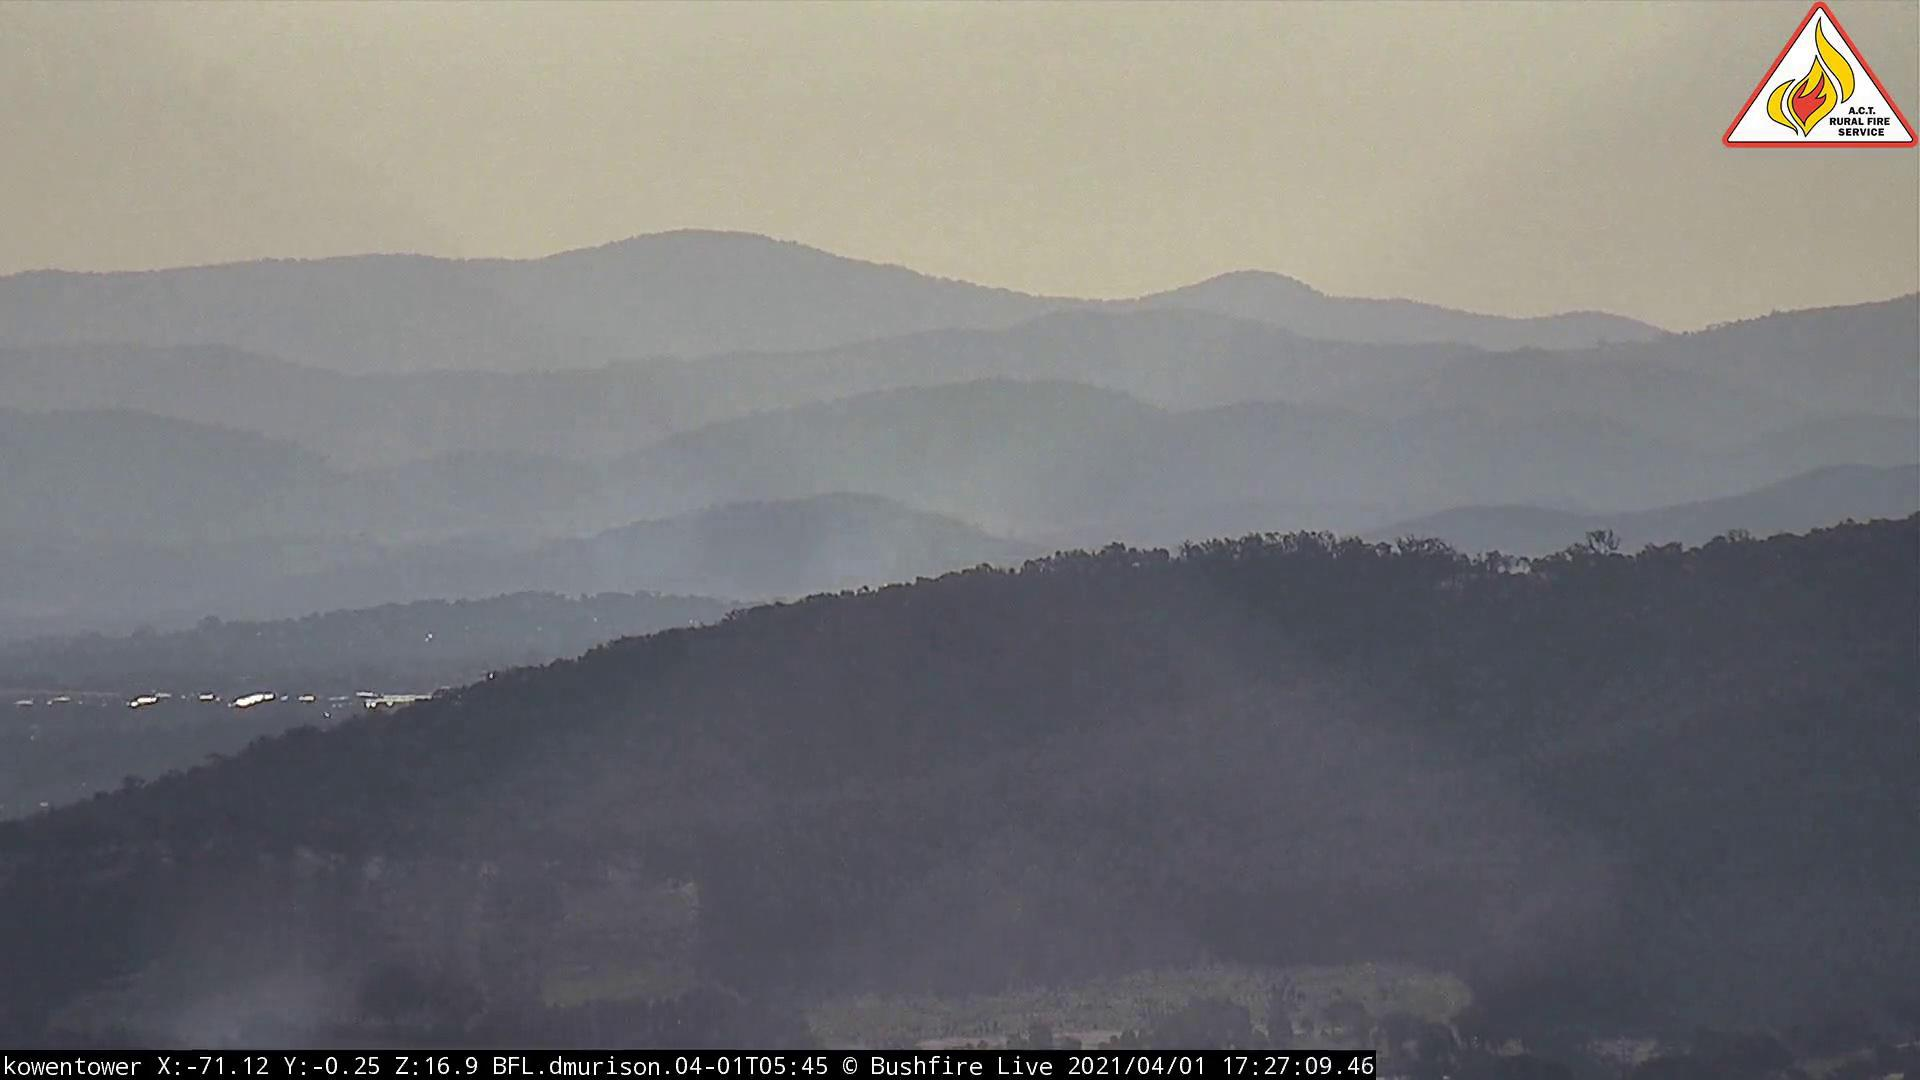Smoke: (579, 401, 1105, 629)
